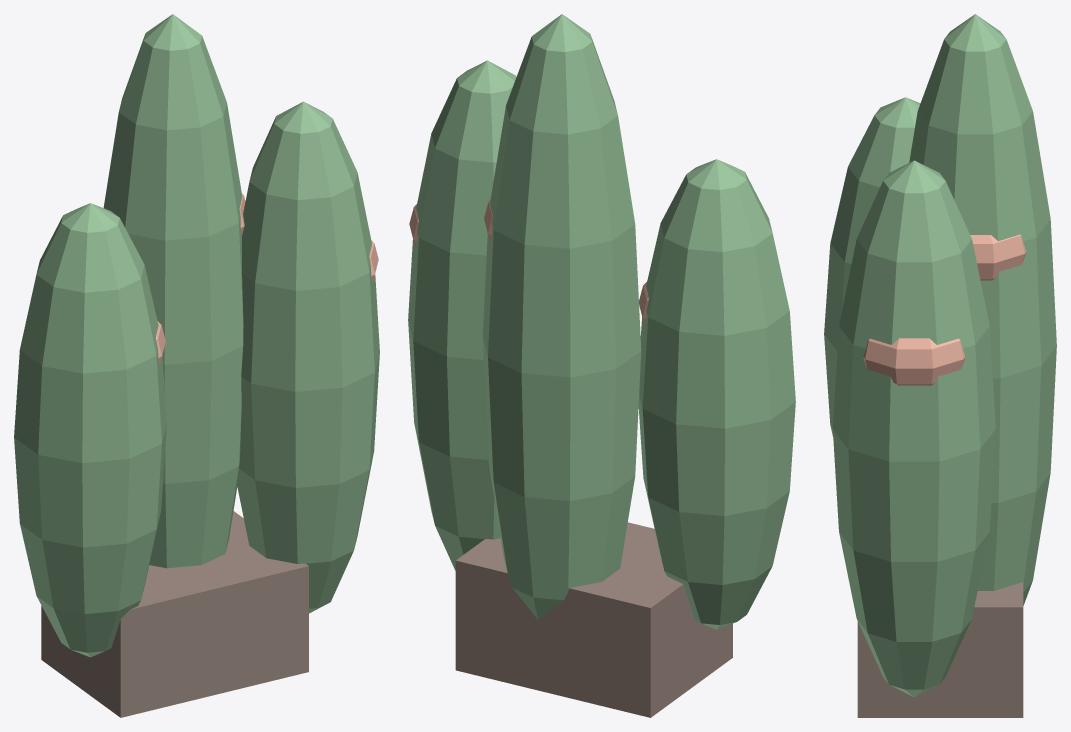
The model's file is prop-planter-01.glb.
3 views of the same model, side by side, from view 1: azimuth 30°, elevation 25°; view 2: azimuth 150°, elevation 25°; view 3: azimuth 270°, elevation 25° (orthographic). The views are drawn at different scales.
Parts seen in each view (by area): view 1: Leaf_2, Leaf_0, Leaf_1, PlanterBox; view 2: Leaf_1, Leaf_0, Leaf_2, PlanterBox; view 3: Leaf_2, Leaf_1, PlanterBox, Leaf_0, Flower_2, Flower_1.
Part boxes in pixels (x1,y1,x2,y2): Leaf_2: [237, 101, 379, 613]; Leaf_0: [14, 203, 166, 657]; Leaf_1: [103, 14, 243, 568]; PlanterBox: [41, 511, 308, 717]; Leaf_1: [482, 14, 641, 619]; Leaf_0: [638, 159, 795, 629]; Leaf_2: [408, 60, 516, 570]; PlanterBox: [455, 522, 732, 717]; Leaf_2: [832, 160, 995, 697]; Leaf_1: [909, 14, 1056, 605]; PlanterBox: [857, 582, 1023, 717]; Leaf_0: [824, 97, 920, 436]; Flower_2: [863, 338, 965, 385]; Flower_1: [970, 234, 1026, 280].
Size of the model in its own units: 0.4806 by 0.84 by 0.2672.
